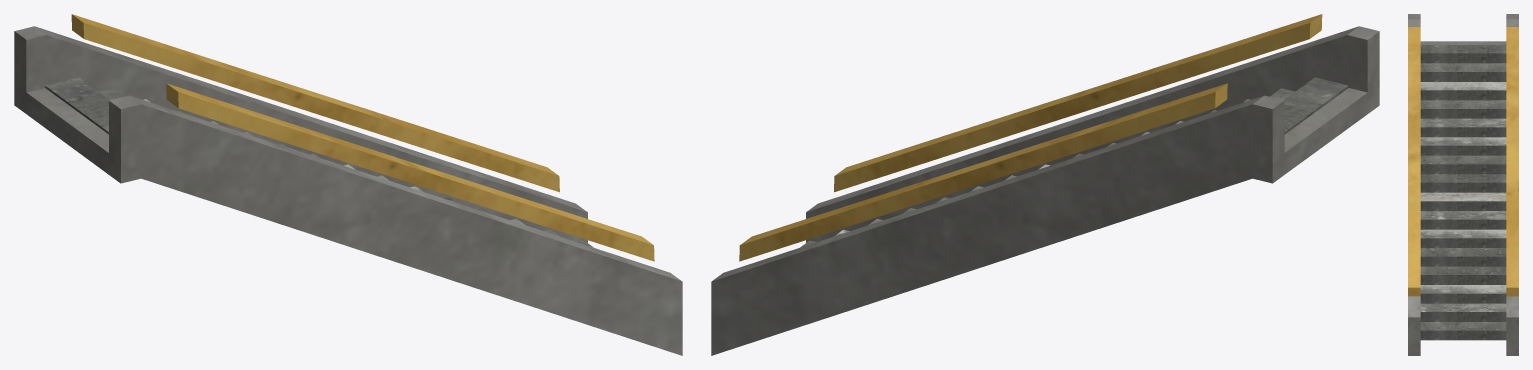
File: SmallMetalPillar6.fbx
3 views of the same model, side by side, from view 1: azimuth 30°, elevation 25°; view 2: azimuth 150°, elevation 25°; view 3: azimuth 270°, elevation 25° (orthographic). The views are drawn at different scales.
Parts seen in each view (by area): view 1: WalkingBridge6; view 2: WalkingBridge6; view 3: WalkingBridge6.
Part boxes in pixels (x1,y1,x2,y2): WalkingBridge6: (14, 14, 682, 355); WalkingBridge6: (711, 14, 1379, 355); WalkingBridge6: (1408, 14, 1518, 355).
Bounding box in the file's own units: 238 × 725 × 478.
